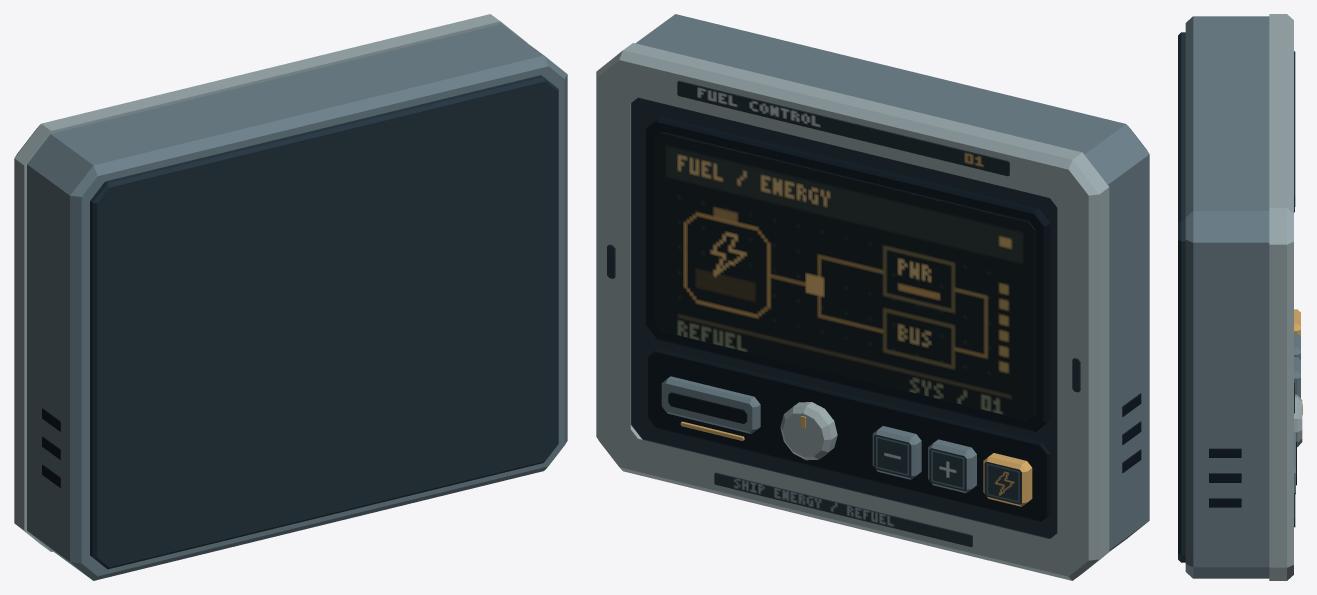
Rendered from fuel_panel.obj.
3 renders of one model, left to right at view 1: azimuth 30°, elevation 25°; view 2: azimuth 150°, elevation 25°; view 3: azimuth 270°, elevation 25°, orthographic. The views are drawn at different scales.
Visible parts, largest first — view 1: rear_mounting_plate, thin_wall_housing, continuous_chamfered_outer_frame; view 2: amber_energy_schematic, continuous_chamfered_outer_frame, thin_wall_housing, recessed_instrument_fascia, lower_control_recess, display_seal, fuel_identification_strip, lower_service_legend, inlet_lip, rotary_control, tactile_key_1, tactile_key_3 (+2 smaller); view 3: thin_wall_housing, continuous_chamfered_outer_frame, rear_mounting_plate, rotary_control, right_side_vent_1, right_side_vent_2, right_side_vent_3, fuel_identification_strip, tactile_key_3.
Part boxes in pixels (x1,y1,x2,y2): rear_mounting_plate: [90, 75, 558, 569]; thin_wall_housing: [27, 24, 567, 580]; continuous_chamfered_outer_frame: [14, 14, 526, 551]; amber_energy_schematic: [654, 131, 1035, 421]; continuous_chamfered_outer_frame: [596, 43, 1109, 580]; thin_wall_housing: [631, 14, 1149, 551]; recessed_instrument_fascia: [631, 97, 1057, 538]; lower_control_recess: [648, 349, 1050, 521]; display_seal: [646, 116, 1050, 431]; fuel_identification_strip: [677, 80, 1009, 176]; lower_service_legend: [714, 472, 972, 547]; inlet_lip: [661, 376, 760, 433]; rotary_control: [780, 402, 837, 460]; tactile_key_1: [983, 453, 1032, 506]; tactile_key_3: [872, 426, 921, 479]; thin_wall_housing: [1185, 16, 1269, 578]; continuous_chamfered_outer_frame: [1269, 14, 1293, 580]; rear_mounting_plate: [1178, 32, 1185, 562]; rotary_control: [1294, 394, 1302, 447]; right_side_vent_1: [1209, 498, 1241, 507]; right_side_vent_2: [1209, 473, 1241, 482]; right_side_vent_3: [1209, 448, 1241, 457]; fuel_identification_strip: [1294, 51, 1295, 206]; tactile_key_3: [1294, 357, 1300, 397].
Size of the model in its own units: 0.9375 by 0.75 by 0.2275.
